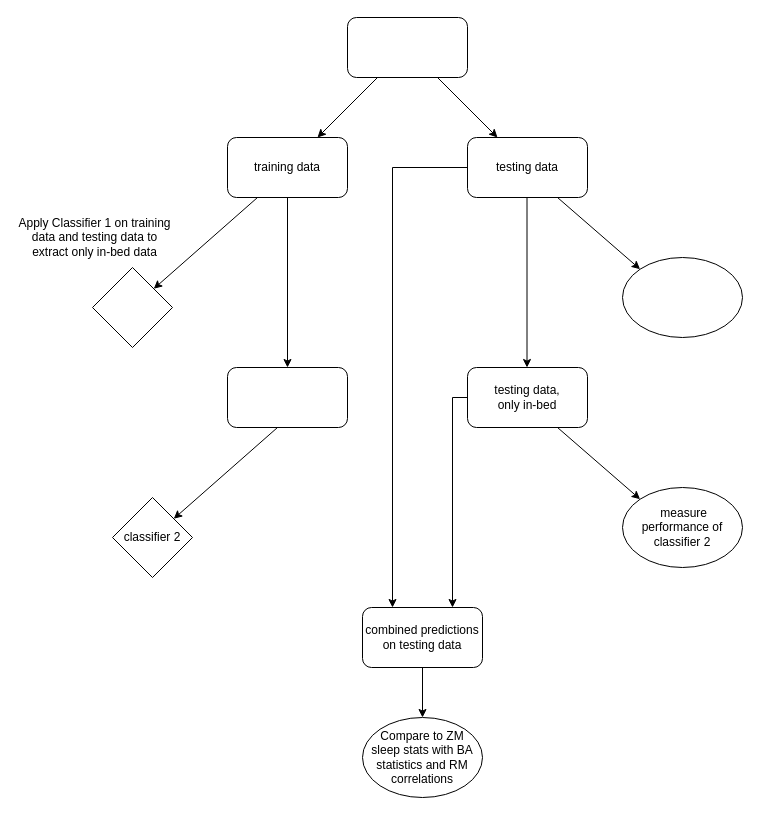
This 760x815 diagram has some shape labels left out. The shapes that lost their labels are listed below. From the top down, each one's box as (x1, y1, x2, y2) in pixels, then its label:
(346, 16, 468, 78): All data
(92, 266, 172, 348): classifier 1
(622, 256, 742, 338): measure performance of classifier 1
(226, 366, 348, 428): training data, only in-bed
